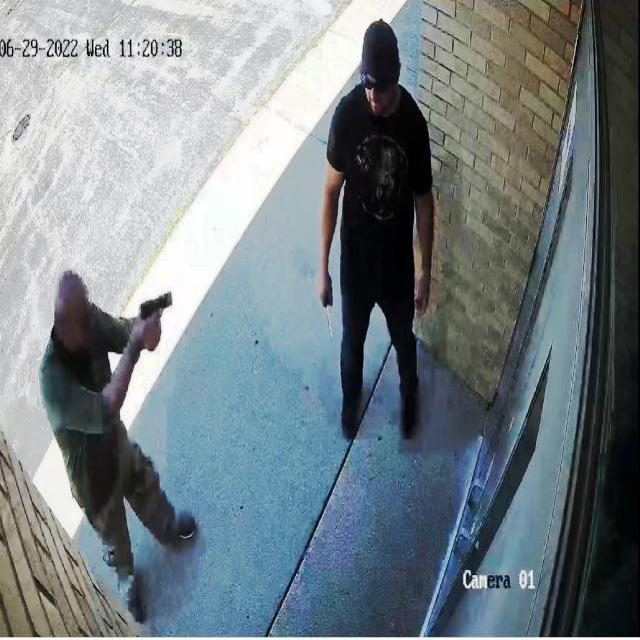Gun: (132, 282, 186, 328)
